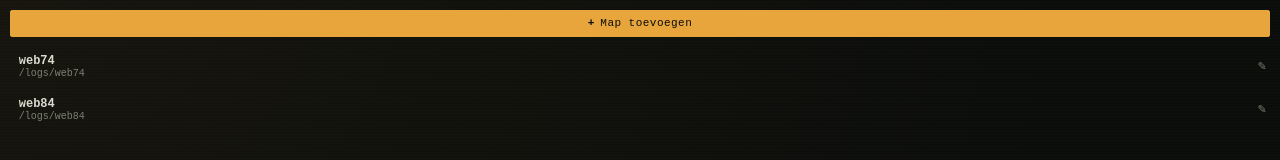
Test: RootFolderList › cancels the edit on Escape without committing the in-progress value
Click the button named "web74 hernoemen" at [1260, 67], box [1250, 47, 1270, 87]
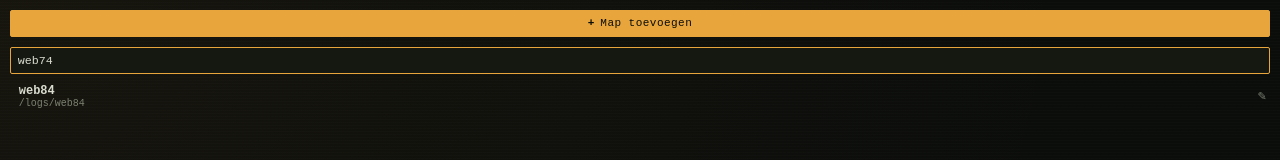
Replace the text in the field showing "web74" with "Onbedoelde naam" at [640, 61], box [10, 47, 1270, 74]
Then press Escape
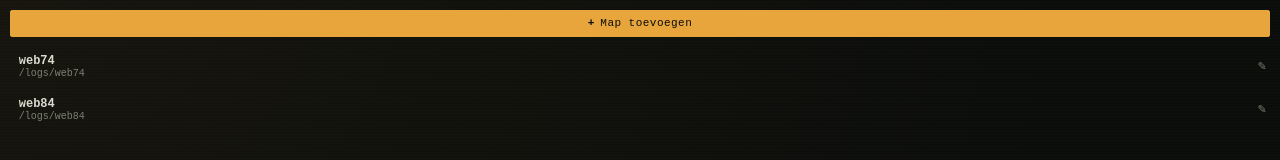
Expected: the button named "web74 hernoemen" is shown, [1250, 47, 1270, 87]
